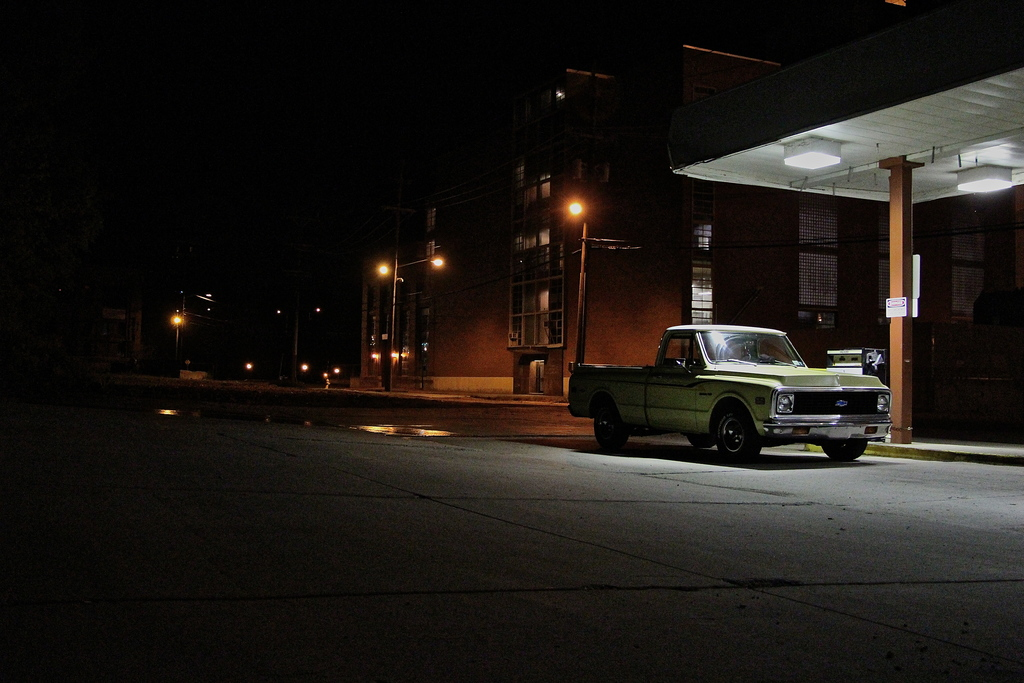Car: (600, 318, 856, 461)
